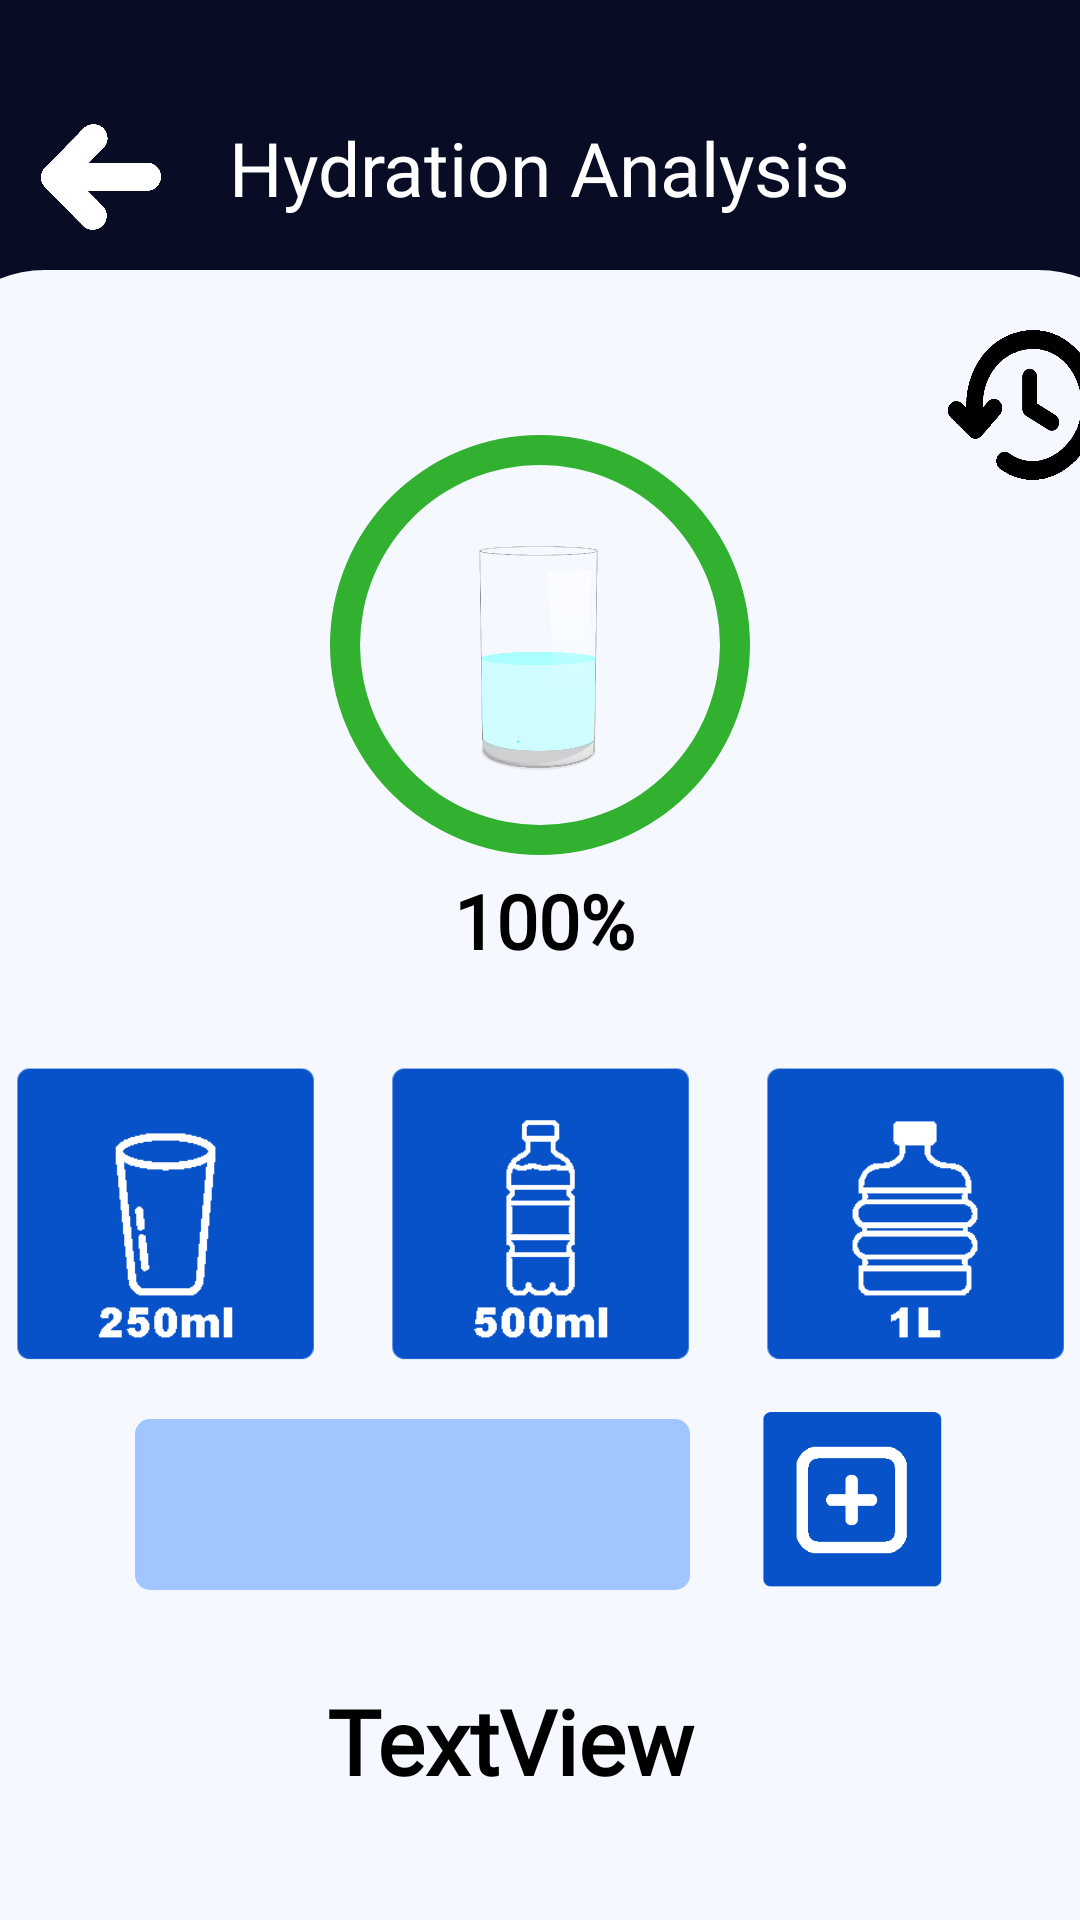

Locate icon controls on the screen. Image size 1080x1920, boxes as (x1, y1, x2, y2).
add water: (763, 1412, 942, 1587)
back: (41, 124, 161, 230)
water half: (479, 546, 598, 769)
